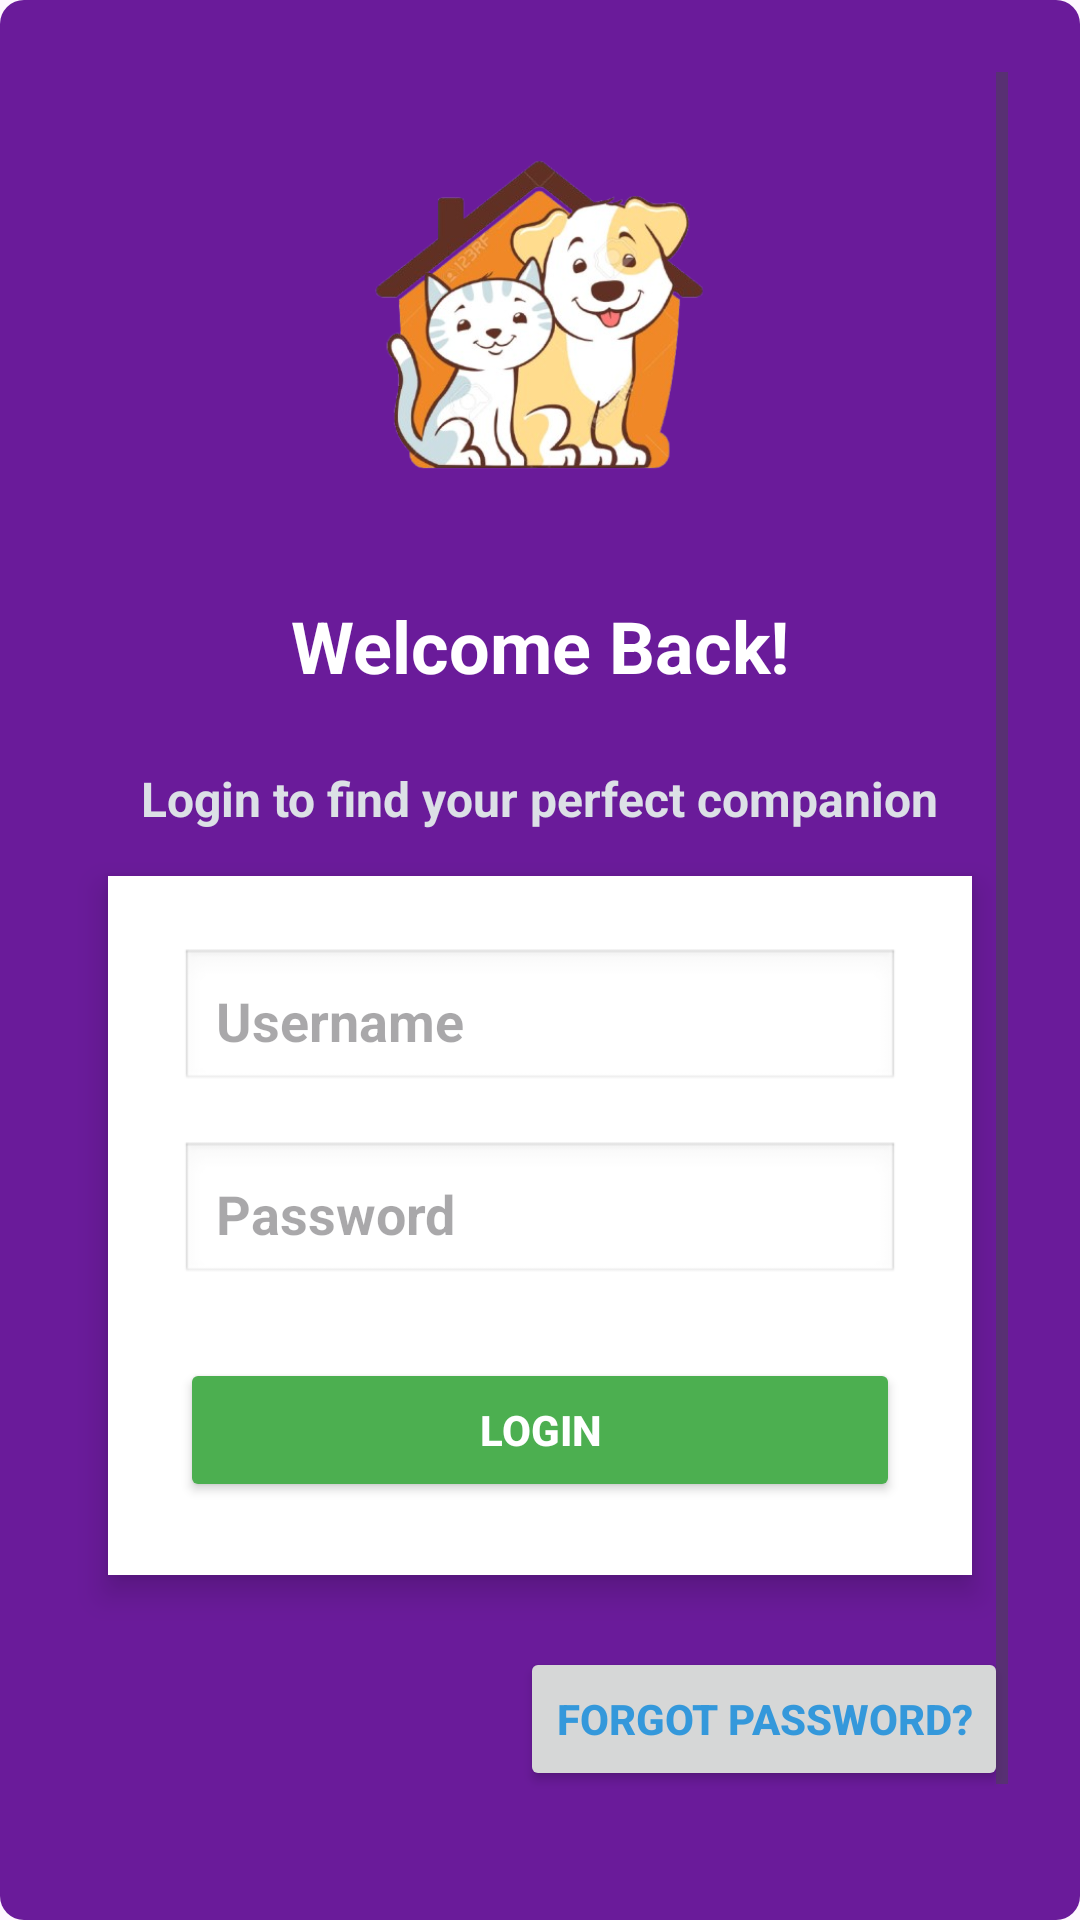

Icons on this 1080px×1920px Android screen, each with its box as (x1, y1, x2, y2):
dog: (376, 161, 703, 468)
